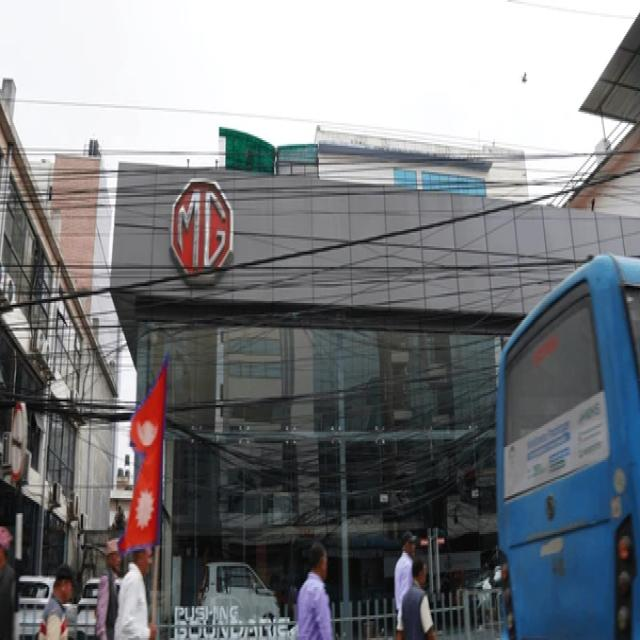mg: (171, 174, 234, 286)
